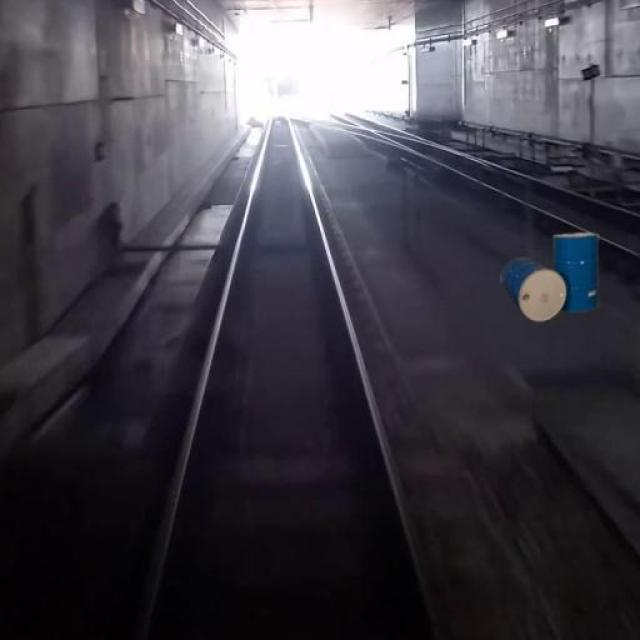Other_objects: (495, 219, 606, 324)
